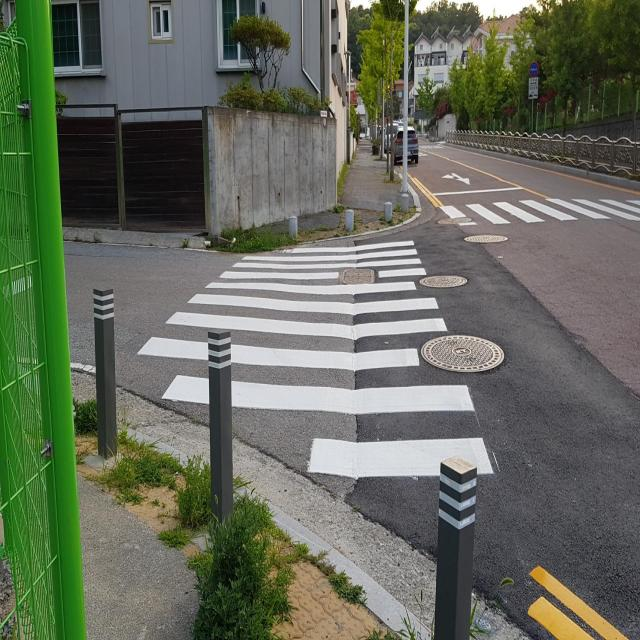횡단보도: (135, 232, 497, 482), (436, 194, 640, 237)
